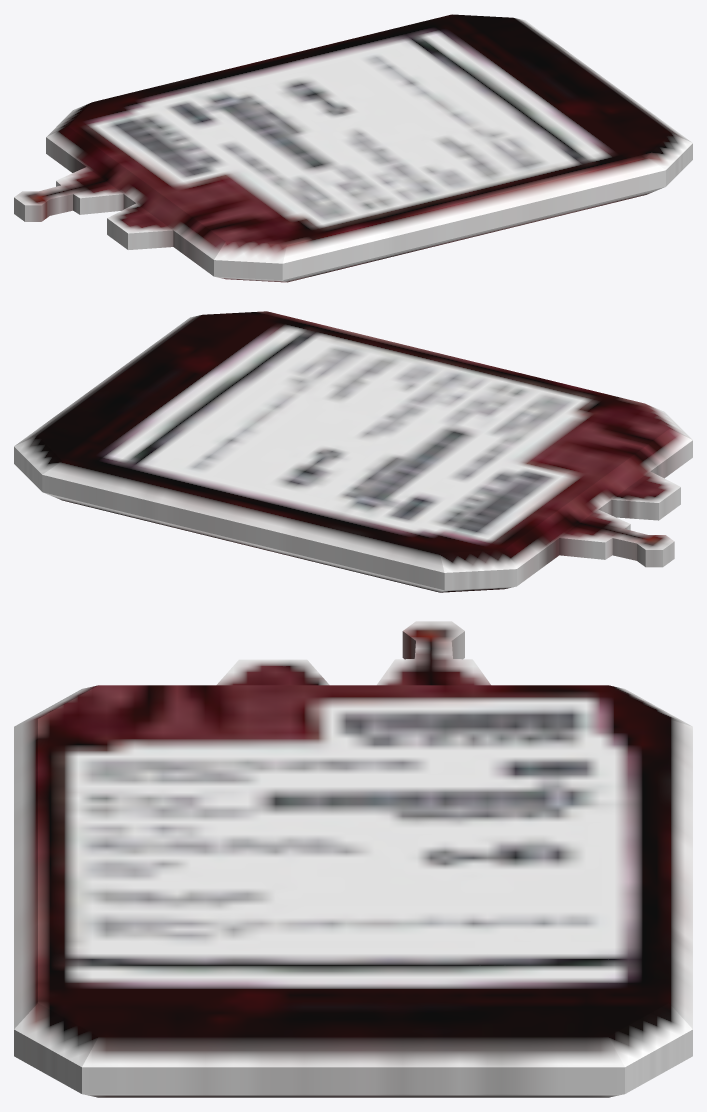
File: BloodBag.fbx
3 renders of one model, top to bottom at view 1: azimuth 30°, elevation 25°; view 2: azimuth 150°, elevation 25°; view 3: azimuth 270°, elevation 25°, orthographic. The views are drawn at different scales.
Parts seen in each view (by area): view 1: BloodBag; view 2: BloodBag; view 3: BloodBag.
Boxes of the visible parts, x1,y1,x2,y2 form: BloodBag: (14,14,692,282); BloodBag: (14,311,692,592); BloodBag: (14,621,692,1097).
Bounding box in the file's own units: 0.1587 × 0.0101 × 0.1021.
